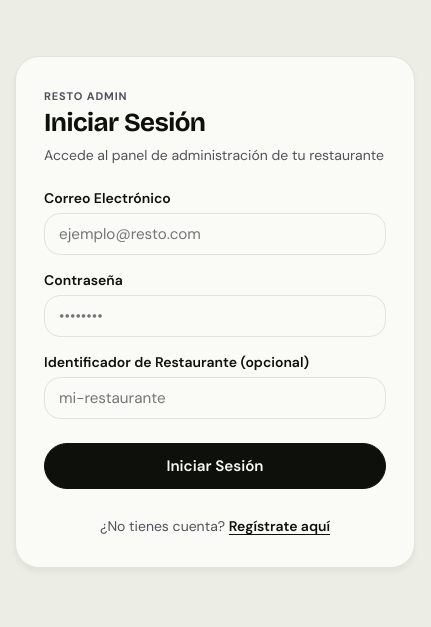
Bloque 2: Auth Admin Real (Tests Rojo) › Login muestra mensaje de error visible con role="alert" ante 401
The image size is (431, 627).
Type "wrong@resto.com" into the field labelled "Correo Electrónico". click: [215, 234]
box: [44, 213, 386, 255]
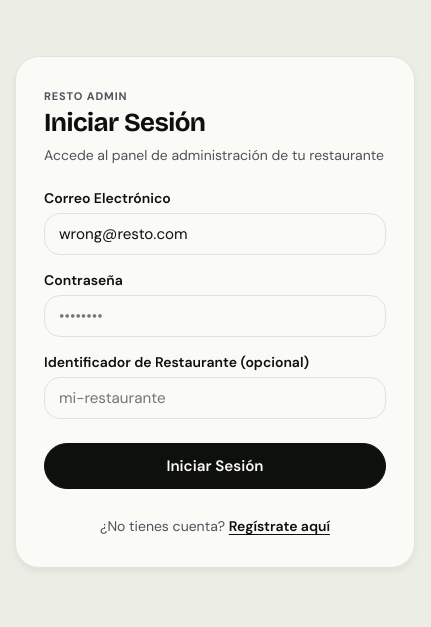
Type "wrong" into the password field labelled "Contraseña". click: [215, 316]
box: [44, 295, 386, 337]
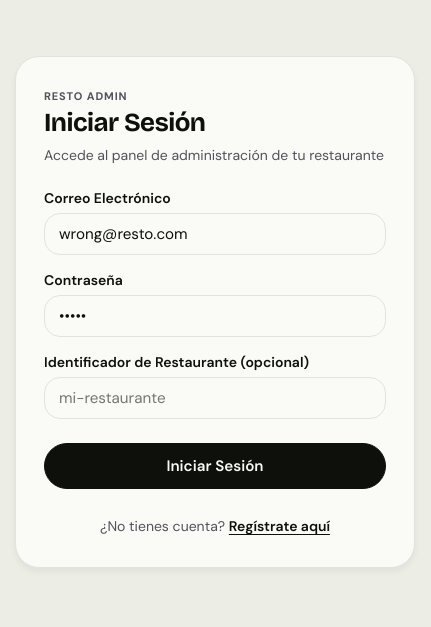
Click the button "Iniciar Sesión". click: [215, 466]
box: [44, 443, 386, 489]
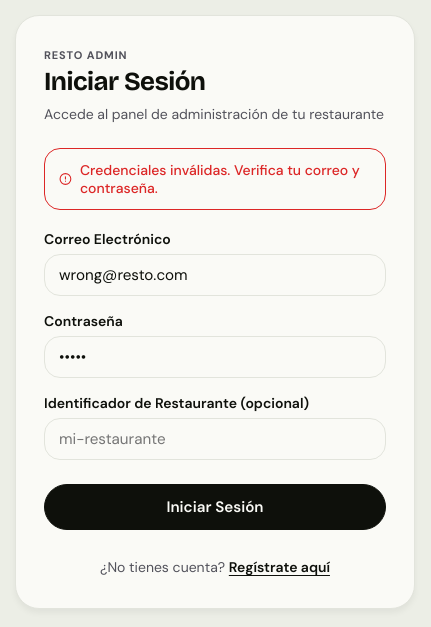
Check: the message reads "Credenciales inválidas. Verifica tu correo y contraseña.", box [80, 161, 360, 197]
